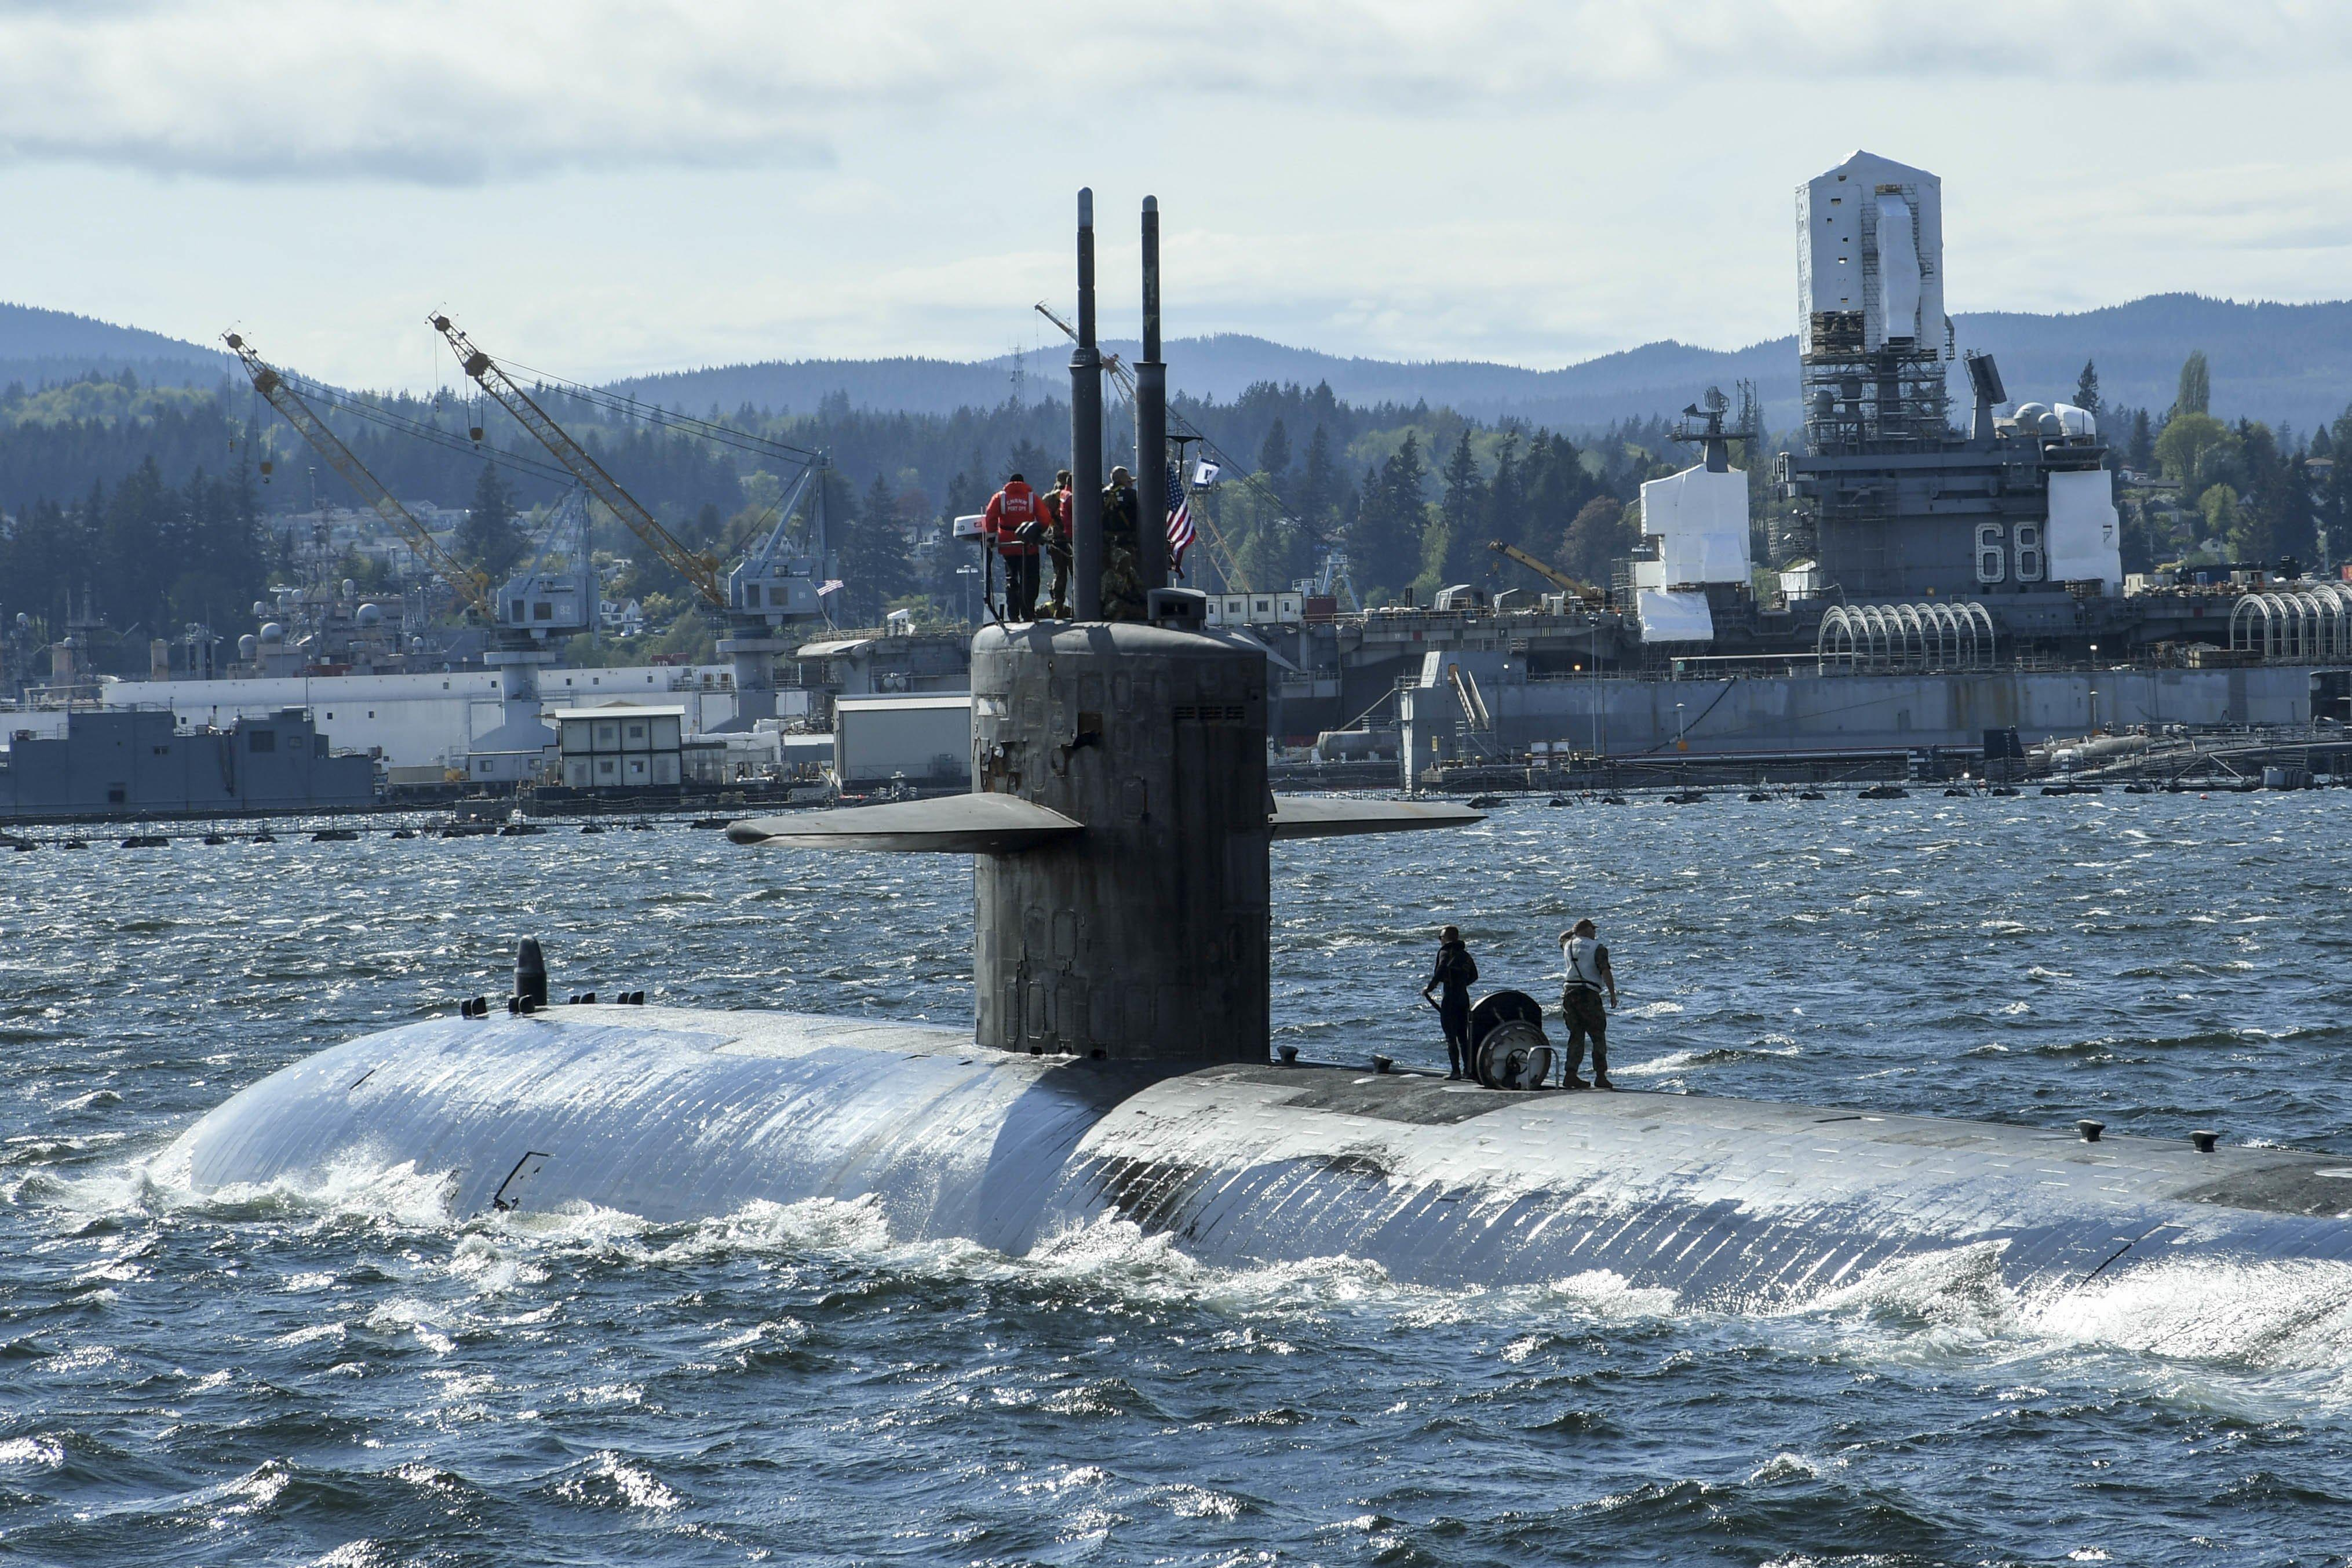Submarine: (46, 29, 2352, 1568)
